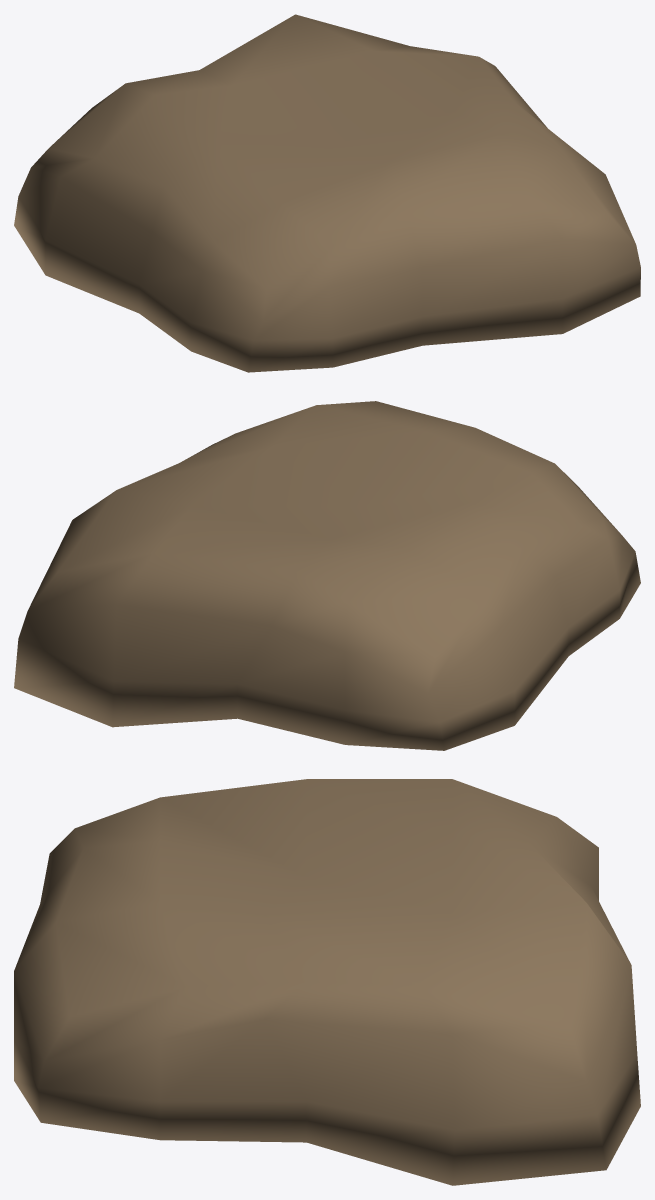
Rendered from Dirt_Dry.fbx.
3 renders of one model, top to bottom at view 1: azimuth 30°, elevation 25°; view 2: azimuth 150°, elevation 25°; view 3: azimuth 270°, elevation 25°, orthographic. The views are drawn at different scales.
Visible parts, largest first — view 1: Dirt_Dry; view 2: Dirt_Dry; view 3: Dirt_Dry.
Boxes of the visible parts, left/top/right/bottom form: Dirt_Dry: left=14, top=14, right=640, bottom=372; Dirt_Dry: left=14, top=401, right=640, bottom=750; Dirt_Dry: left=14, top=779, right=640, bottom=1185.
Bounding box in the file's own units: 93.94 × 33.95 × 93.94.
